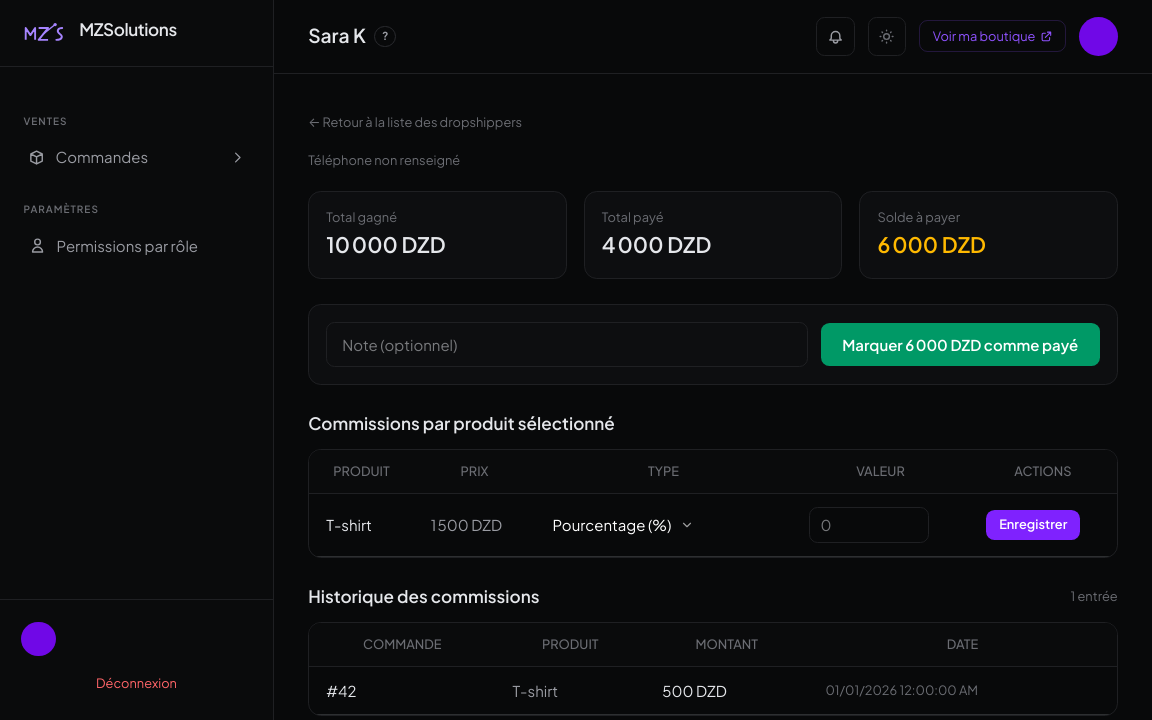
Test: DropshipperDetailPage › shows a toast when the payment fails
What coordinates should you click on to do the following:
click the button "Marquer 6 000 DZD comme payé"
I would click on:
 (960, 345)
Its box is x1=821 y1=323 x2=1100 y2=366.
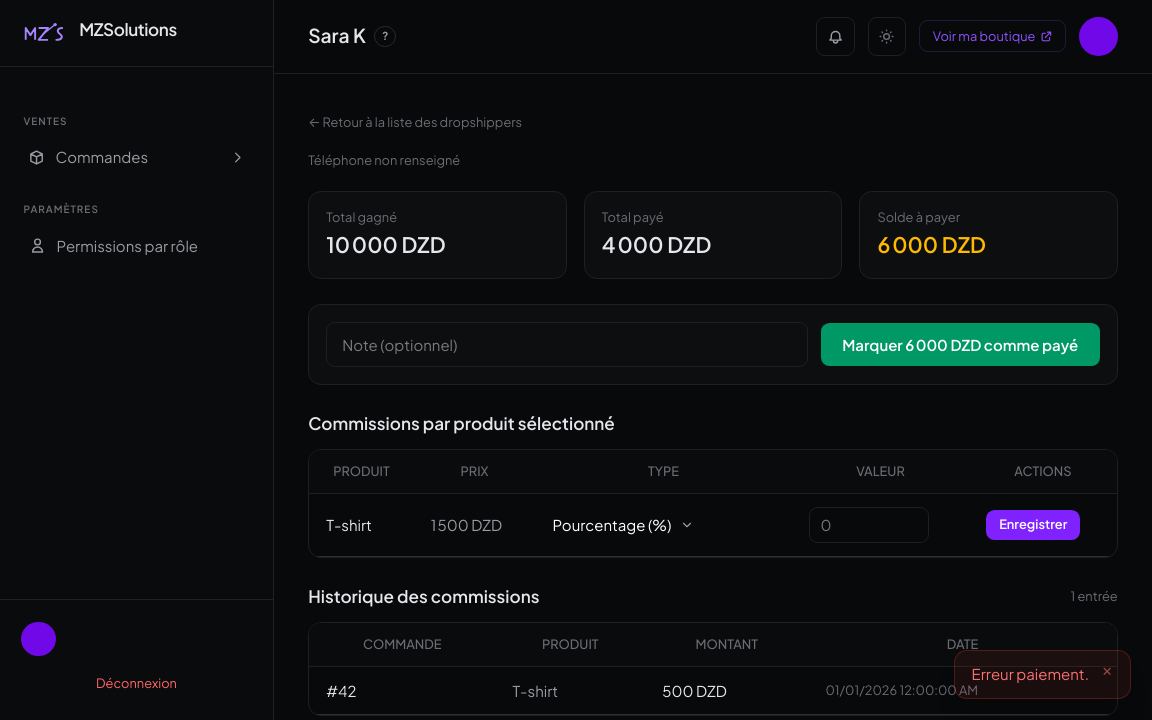
Expected: the text "Erreur paiement." is shown, x1=972 y1=663 x2=1089 y2=685
